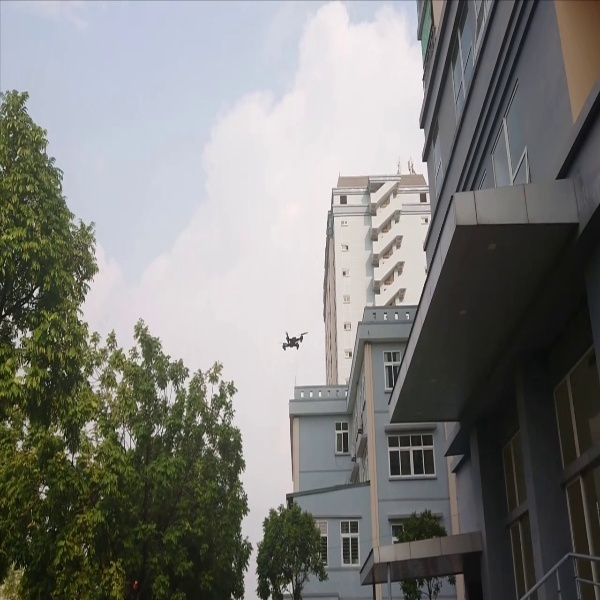drone: (274, 322, 310, 355)
